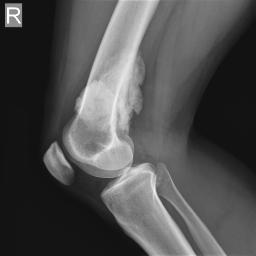cancer: (74, 47, 150, 135)
